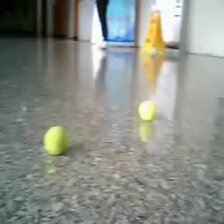tennis: (44, 126, 69, 154), (138, 100, 156, 121)
